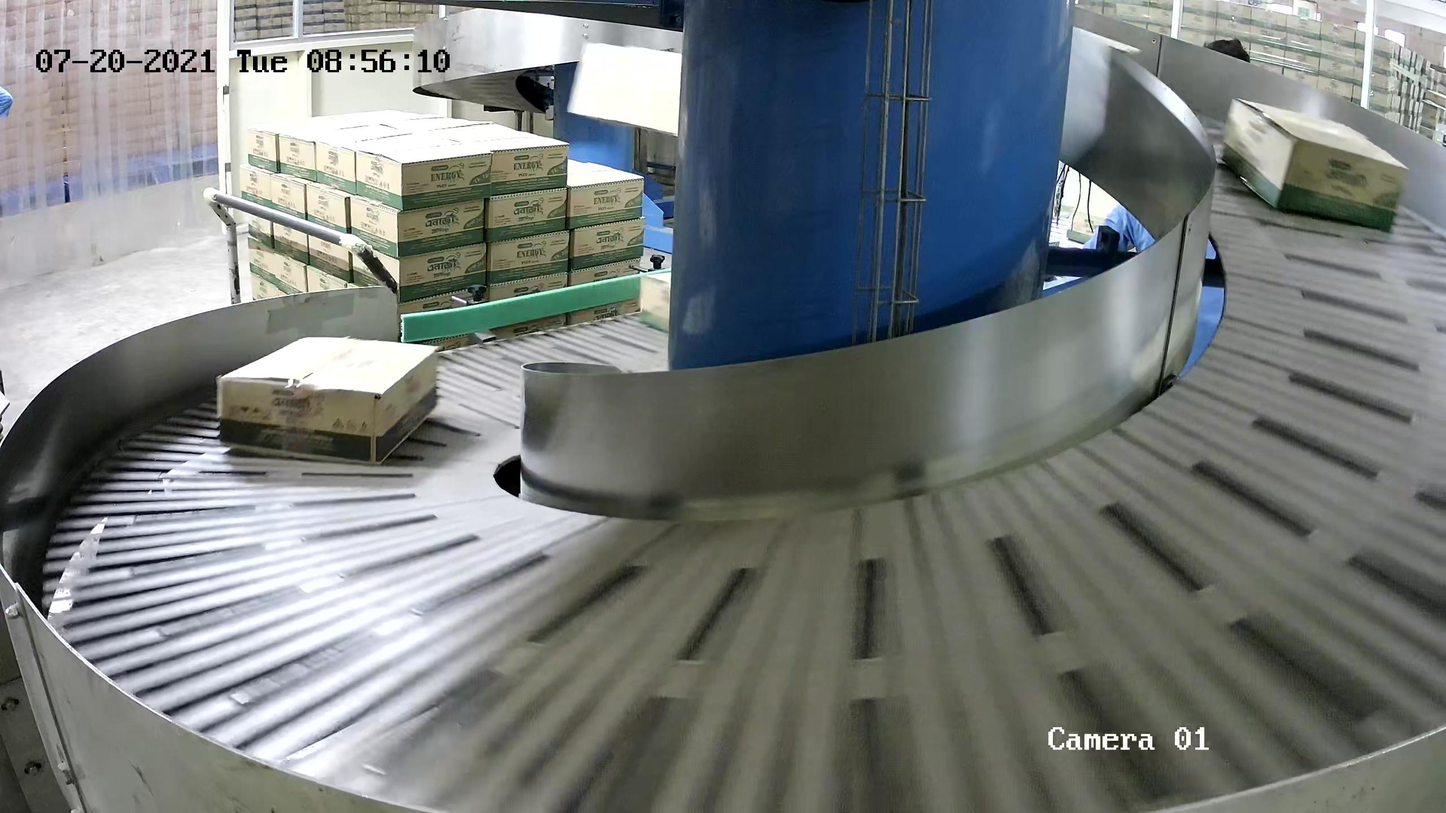Box: (215, 332, 443, 467), (1218, 95, 1414, 236)
